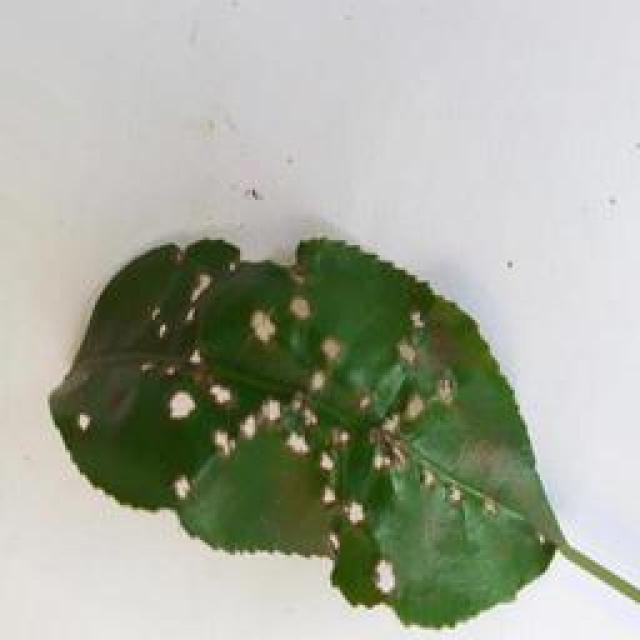Helopeltis: (50, 227, 563, 640)
